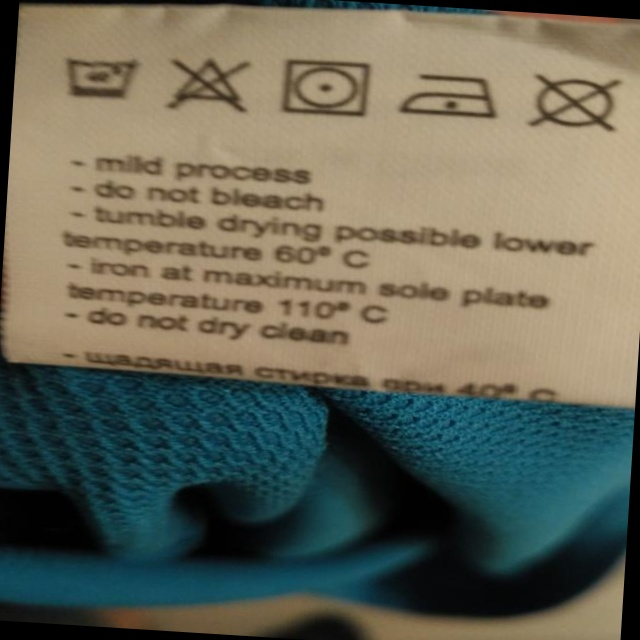40C: (59, 52, 144, 103)
DN_bleach: (161, 51, 259, 122)
DN_dry_clean: (521, 66, 630, 142)
iron_low: (395, 69, 502, 130)
tumble_dry_low: (276, 53, 383, 128)
